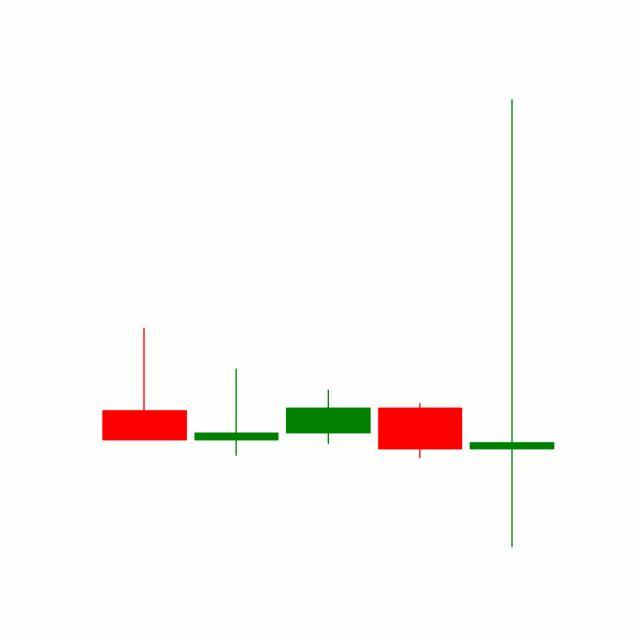Marubozu: (374, 403, 468, 460)
